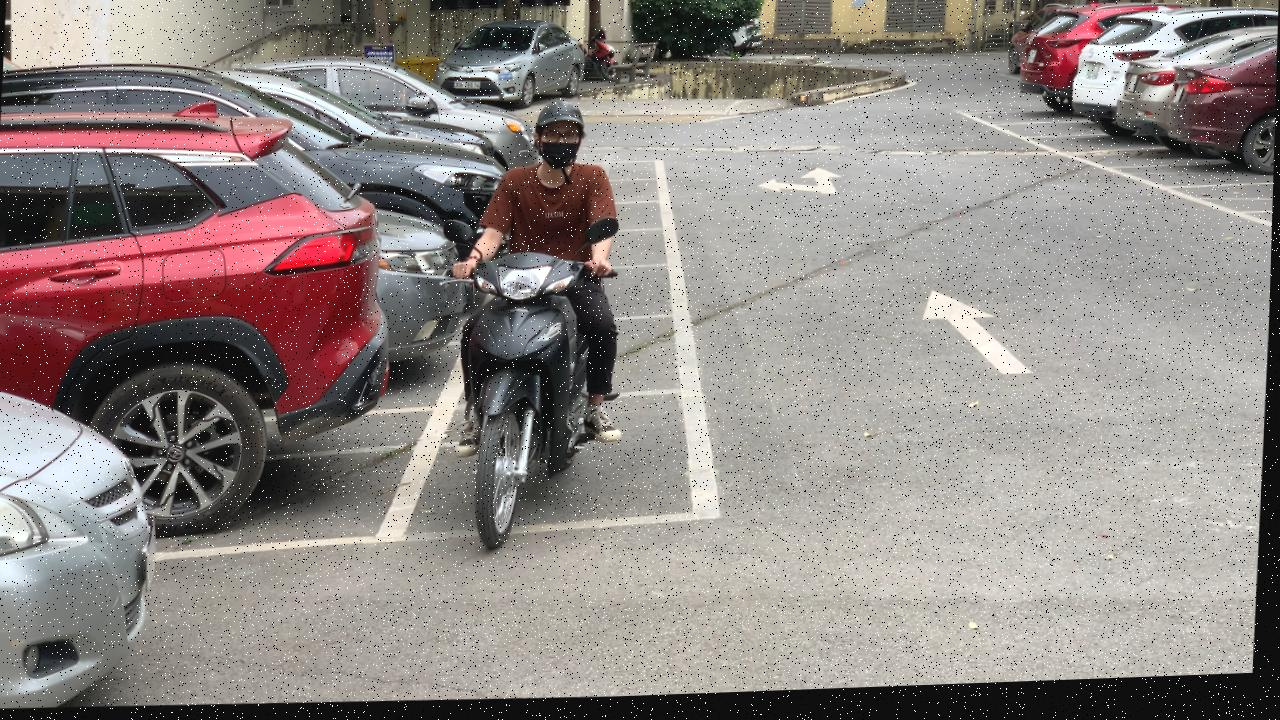helmet: (533, 104, 588, 134)
motorcyclist: (428, 96, 640, 559)
